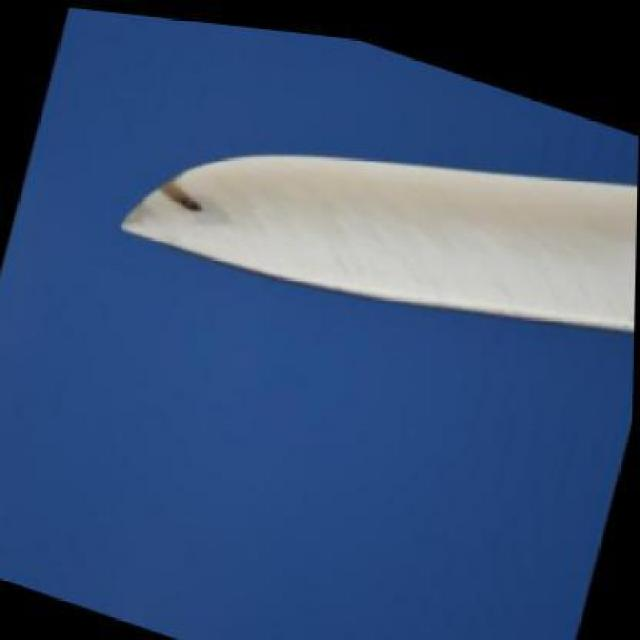Burn Mark: (154, 175, 212, 221)
